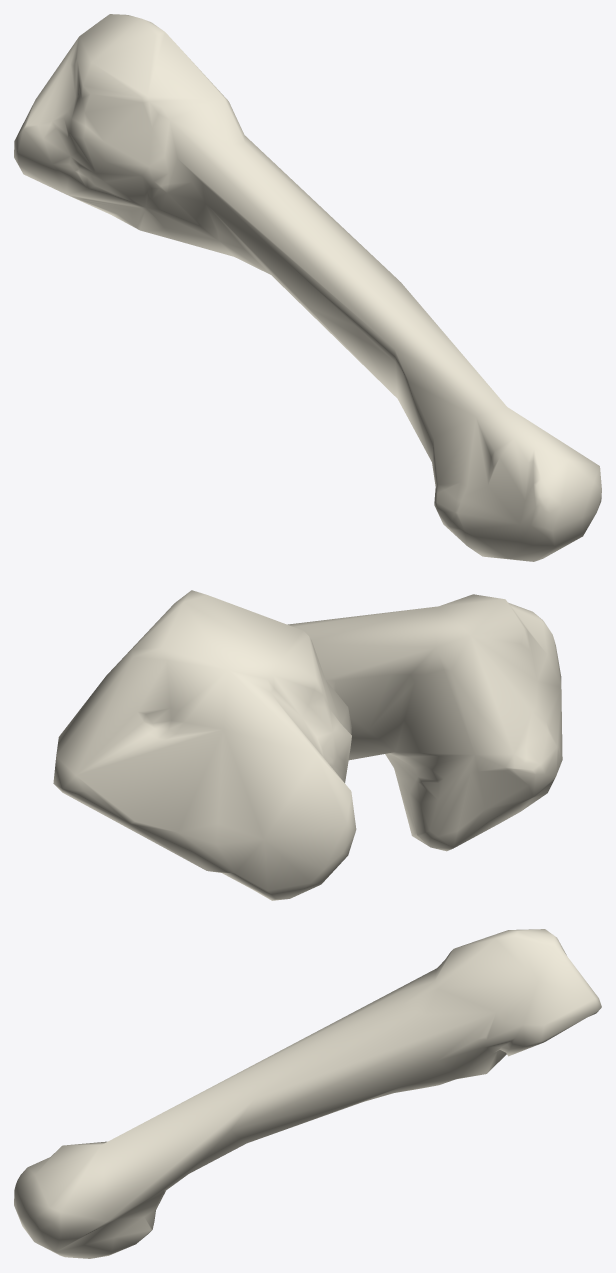
3 renders of one model, top to bottom at view 1: azimuth 30°, elevation 25°; view 2: azimuth 150°, elevation 25°; view 3: azimuth 270°, elevation 25°, orthographic. The views are drawn at different scales.
Visible parts, largest first — view 1: ZA_a1dbeb10397d29f3; view 2: ZA_a1dbeb10397d29f3; view 3: ZA_a1dbeb10397d29f3.
Part boxes in pixels (x1,y1,x2,y2): ZA_a1dbeb10397d29f3: (14,14,601,561); ZA_a1dbeb10397d29f3: (53,590,562,900); ZA_a1dbeb10397d29f3: (14,929,601,1258).
Bounding box in the file's own units: 0.0299 × 0.037 × 0.0685.
